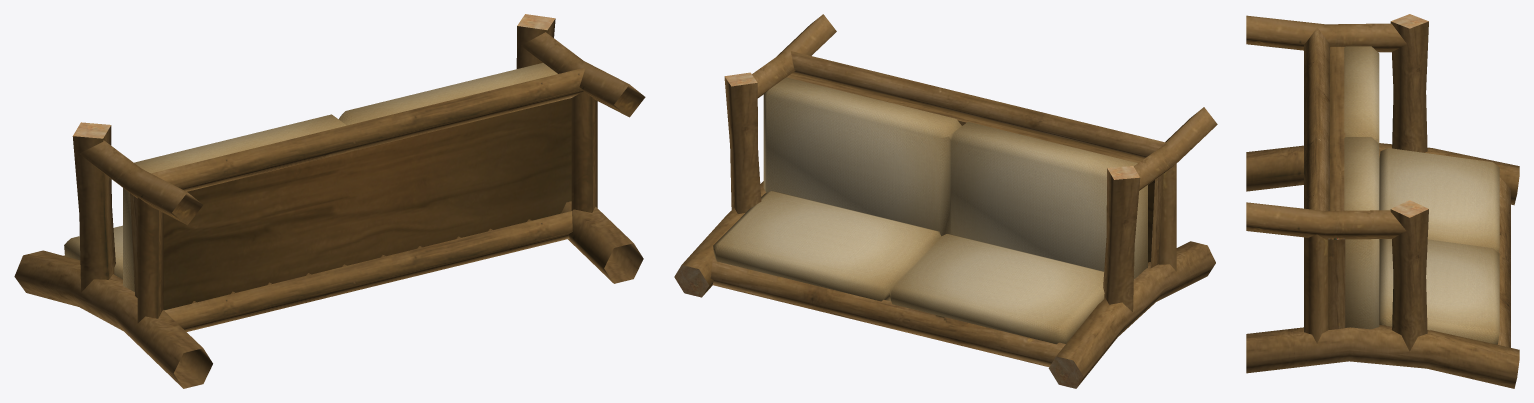
Rendered from Log_Sofa_C.fbx.
3 views of the same model, side by side, from view 1: azimuth 30°, elevation 25°; view 2: azimuth 150°, elevation 25°; view 3: azimuth 270°, elevation 25° (orthographic). The views are drawn at different scales.
Visible parts, largest first — view 1: Log_Sofa_C; view 2: Log_Sofa_C; view 3: Log_Sofa_C.
Part boxes in pixels (box(x1,y1,x2,y2)): Log_Sofa_C: box(14, 14, 645, 388); Log_Sofa_C: box(674, 14, 1217, 388); Log_Sofa_C: box(1246, 14, 1519, 388).
Bounding box in the file's own units: 18.26 × 7.68 × 10.35.
